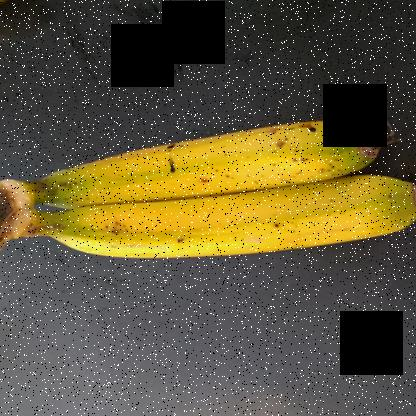freshripe: (45, 166, 415, 274)
ripe: (37, 114, 367, 203)
